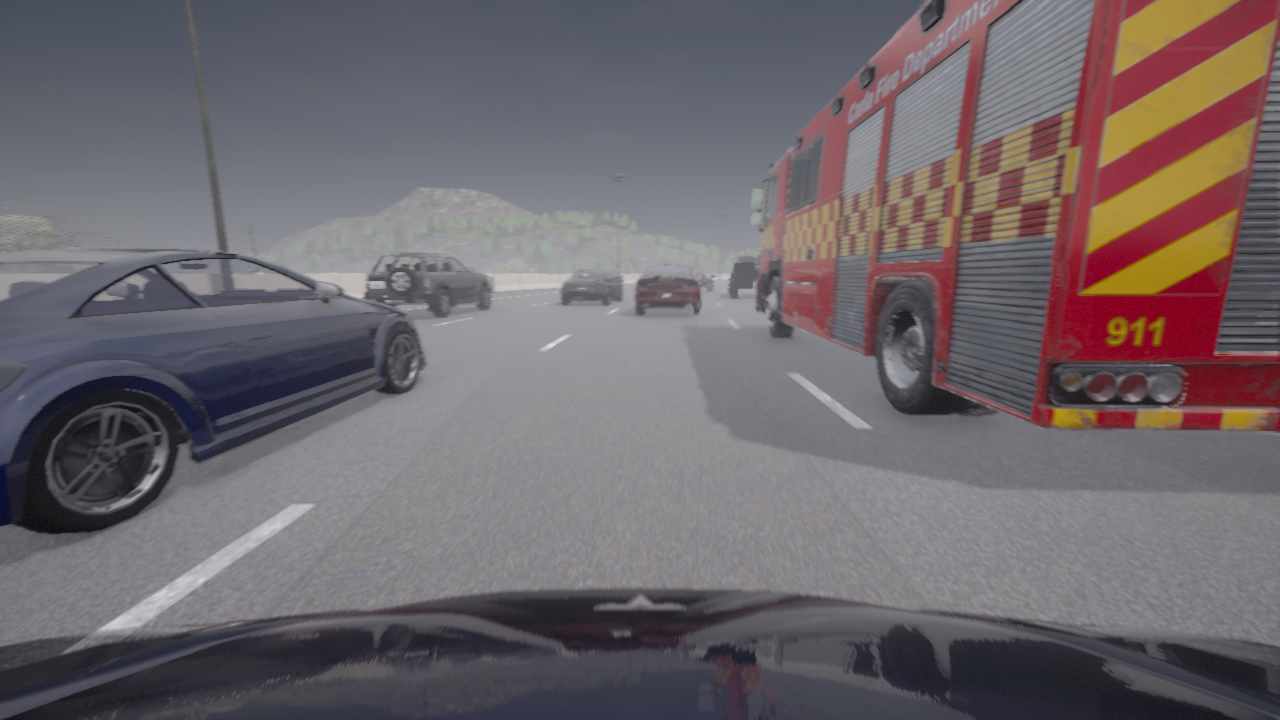cyclist: (749, 0, 1279, 431), (0, 588, 1279, 719), (0, 247, 426, 533), (362, 251, 493, 316), (635, 262, 702, 314), (559, 269, 622, 304), (729, 256, 759, 297), (693, 269, 713, 291), (604, 269, 622, 287)
